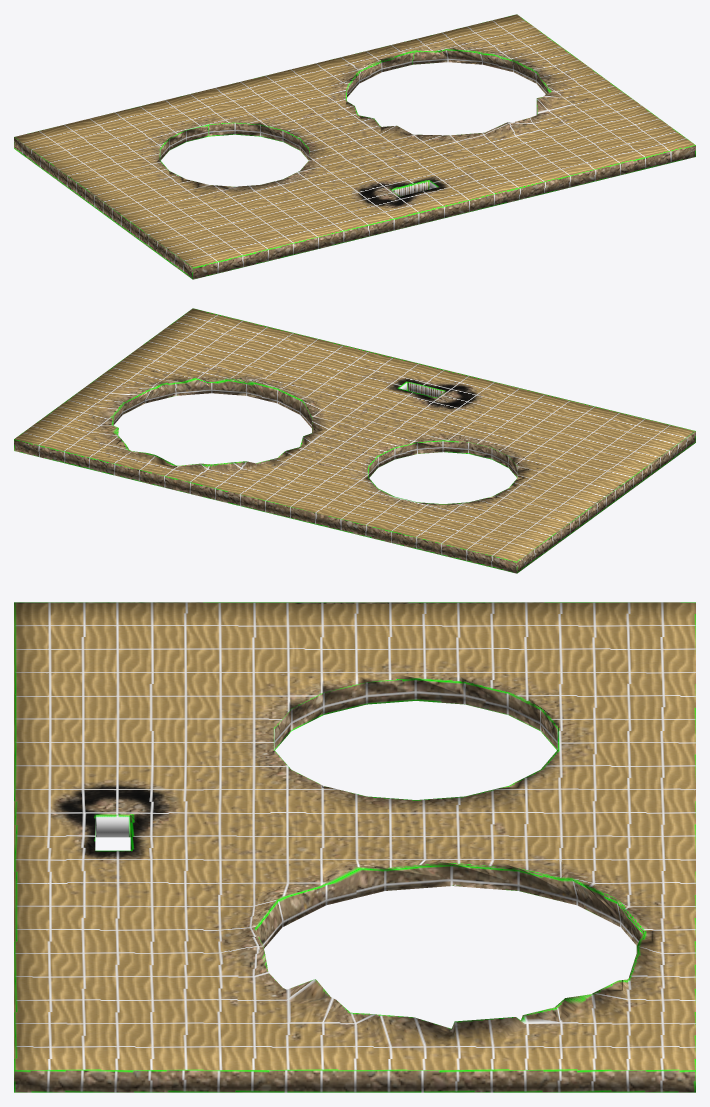
The model's file is lid2.obj.
3 renders of one model, top to bottom at view 1: azimuth 30°, elevation 25°; view 2: azimuth 150°, elevation 25°; view 3: azimuth 270°, elevation 25°, orthographic. The views are drawn at different scales.
Parts seen in each view (by area): view 1: Box005; view 2: Box005; view 3: Box005.
Boxes of the visible parts, x1,y1,x2,y2 form: Box005: (14,14,695,279); Box005: (14,308,695,573); Box005: (14,602,695,1092).
Bounding box in the file's own units: 49.31 × 1.92 × 30.37.
Materials: 1 (1 with a texture image).
